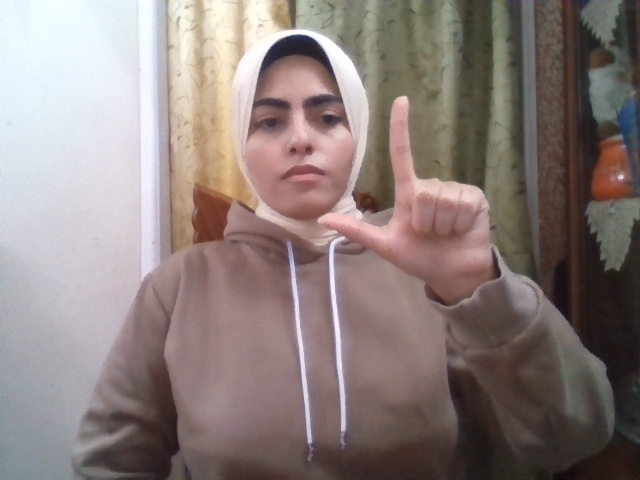L: (320, 96, 494, 284)
